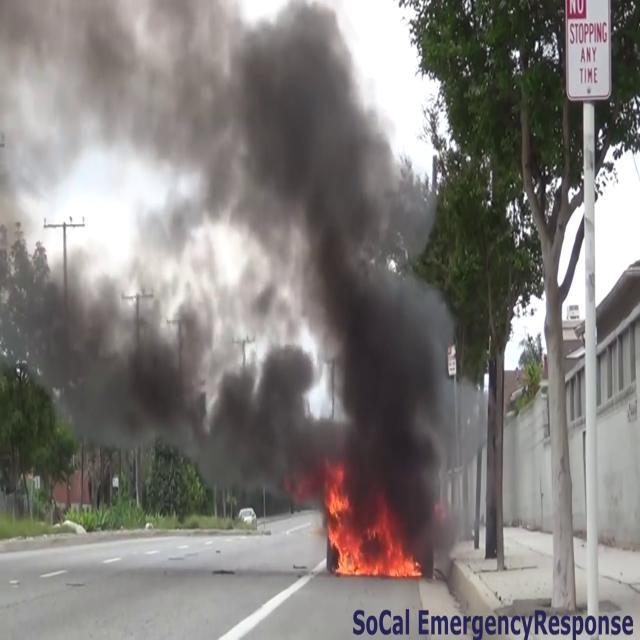Fire: (321, 484, 421, 584)
Smoke: (1, 0, 460, 506)
